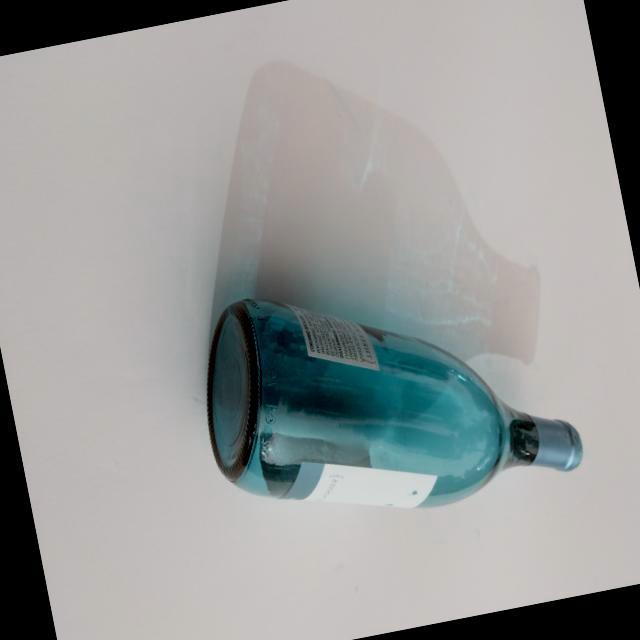glass: (182, 234, 592, 556)
